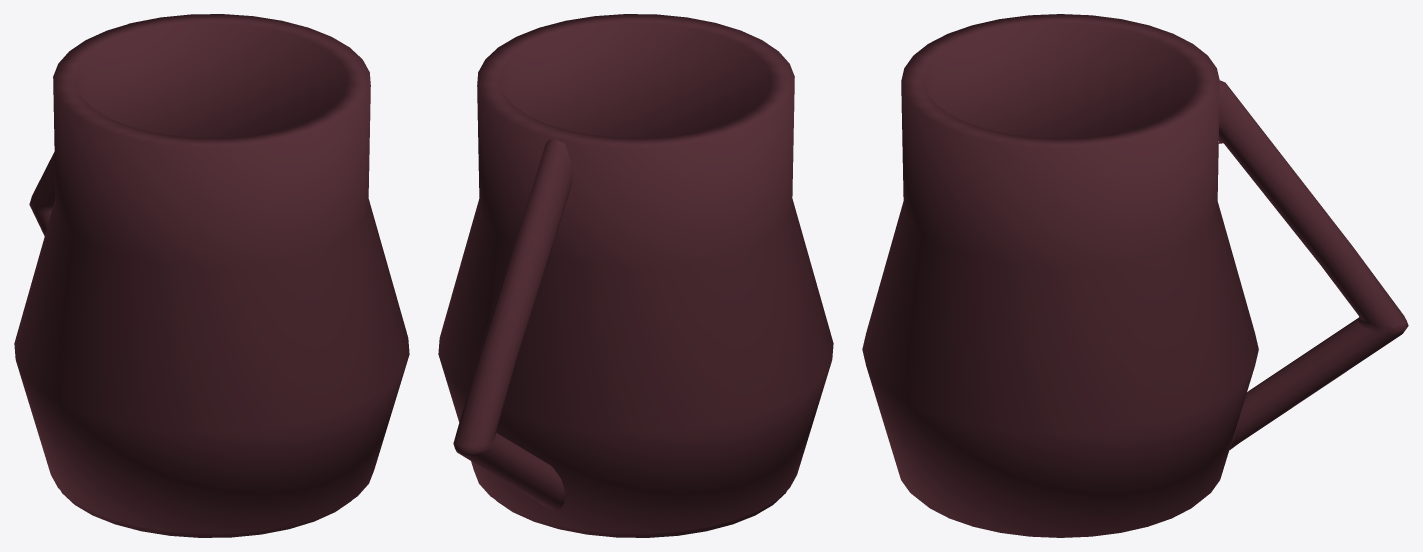
Rendered from mug_7.glb.
3 views of the same model, side by side, from view 1: azimuth 30°, elevation 25°; view 2: azimuth 150°, elevation 25°; view 3: azimuth 270°, elevation 25° (orthographic).
Parts seen in each view (by area): view 1: Cylinder; view 2: Cylinder; view 3: Cylinder.
Boxes of the visible parts, x1,y1,x2,y2 form: Cylinder: (14,14,409,537); Cylinder: (438,14,833,537); Cylinder: (862,14,1408,537).
Bounding box in the file's own units: 1.84 × 2 × 2.54.
